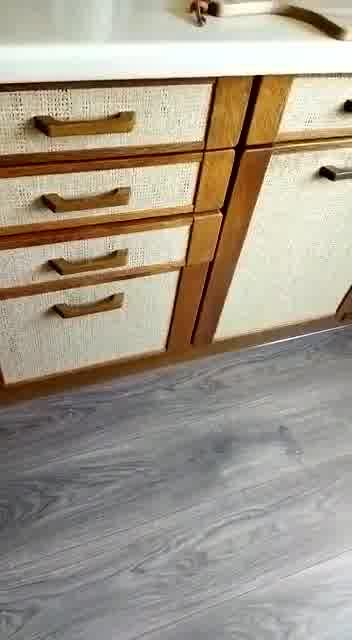cabinet_door: (220, 150, 352, 345), (0, 277, 210, 383), (0, 81, 243, 150), (0, 157, 232, 214), (0, 218, 223, 276)
handle: (25, 103, 140, 141), (36, 182, 135, 216), (51, 285, 128, 324), (46, 242, 130, 277)
